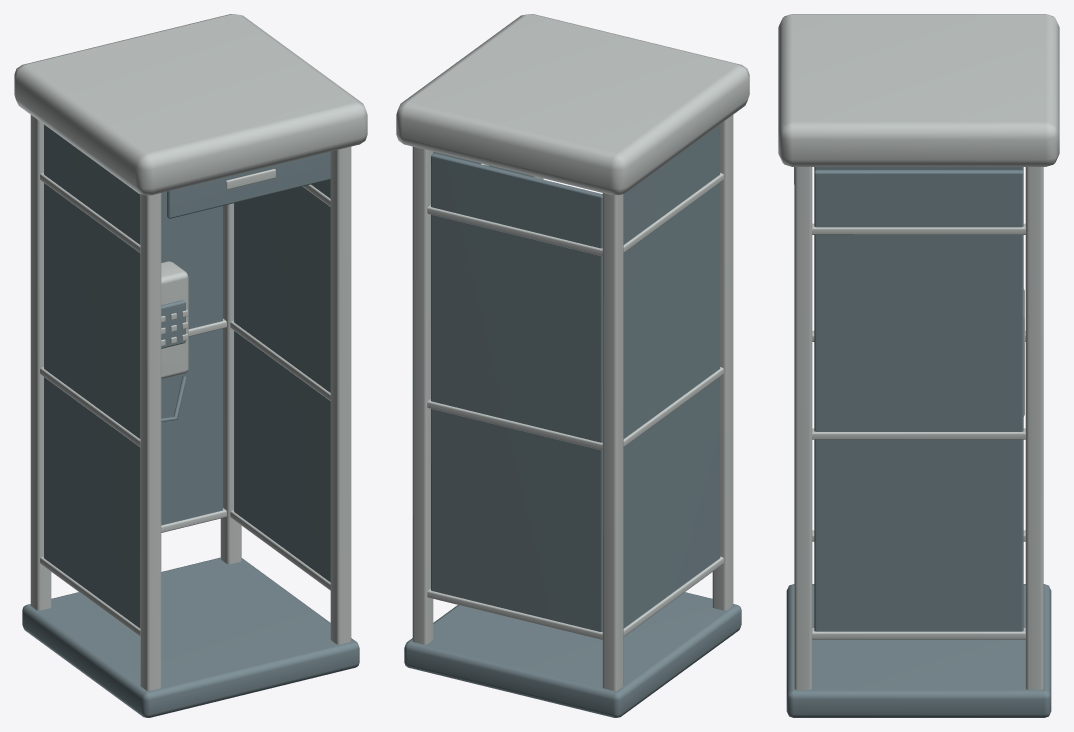
File: phone-booth.glb
3 views of the same model, side by side, from view 1: azimuth 30°, elevation 25°; view 2: azimuth 150°, elevation 25°; view 3: azimuth 270°, elevation 25° (orthographic). The views are drawn at different scales.
Parts seen in each view (by area): view 1: roof, side_glass, side_glass.001, base, back_glass, corner_post.001, corner_post.003, corner_post, corner_post.002, header_sign, payphone, side_crossbar.001 (+5 smaller); view 2: back_glass, roof, side_glass, base, corner_post, corner_post.002, corner_post.001, back_crossbar.001, back_crossbar, back_crossbar.002, side_crossbar.002, side_crossbar (+1 smaller); view 3: side_glass.001, roof, base, corner_post.002, corner_post.003, side_crossbar.001, side_crossbar.003, side_crossbar.005, side_glass.
Part boxes in pixels (x1,y1,x2,y2): roof: (14, 14, 367, 195); side_glass: (44, 124, 140, 628); side_glass.001: (234, 179, 330, 582); base: (22, 557, 359, 717); back_glass: (161, 191, 222, 525); corner_post.001: (140, 193, 161, 690); corner_post.003: (330, 146, 351, 644); corner_post: (30, 115, 51, 610); corner_post.002: (220, 203, 241, 564); header_sign: (167, 151, 330, 218); payphone: (161, 261, 188, 378); side_crossbar.001: (230, 510, 330, 590); back_glass: (431, 153, 602, 631); roof: (396, 14, 749, 195); side_glass: (623, 124, 719, 628); base: (404, 592, 741, 717); corner_post: (602, 193, 623, 690); corner_post.002: (412, 146, 433, 644); corner_post.001: (712, 115, 733, 610); back_crossbar.001: (427, 399, 602, 450); back_crossbar: (427, 588, 602, 639); back_crossbar.002: (427, 205, 602, 256); side_crossbar.002: (623, 367, 723, 446); side_crossbar: (623, 556, 723, 636); side_glass.001: (814, 170, 1023, 631); roof: (778, 14, 1059, 166); base: (786, 584, 1051, 717); corner_post.002: (1025, 167, 1043, 689); corner_post.003: (794, 167, 812, 689); side_crossbar.001: (812, 628, 1025, 639); side_crossbar.003: (812, 428, 1025, 439); side_crossbar.005: (812, 223, 1025, 234); side_glass: (814, 167, 1023, 170).
Bounding box in the file's own units: 1.02 × 2.39 × 1.02.
